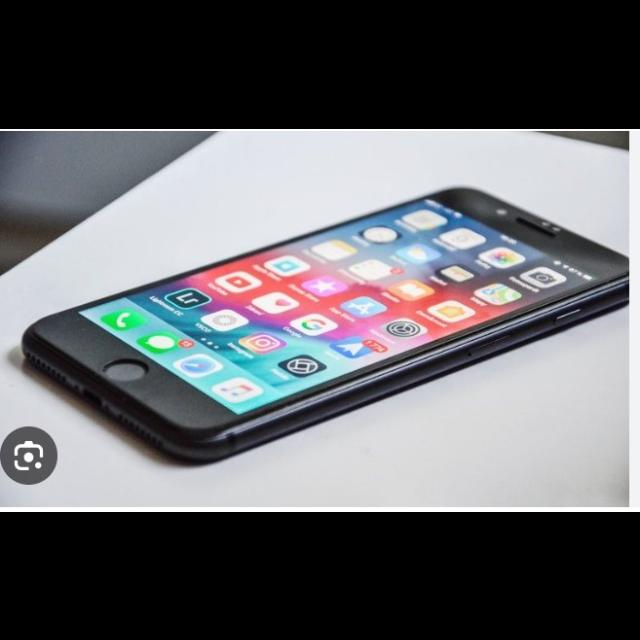Smartphone: (19, 185, 629, 468)
